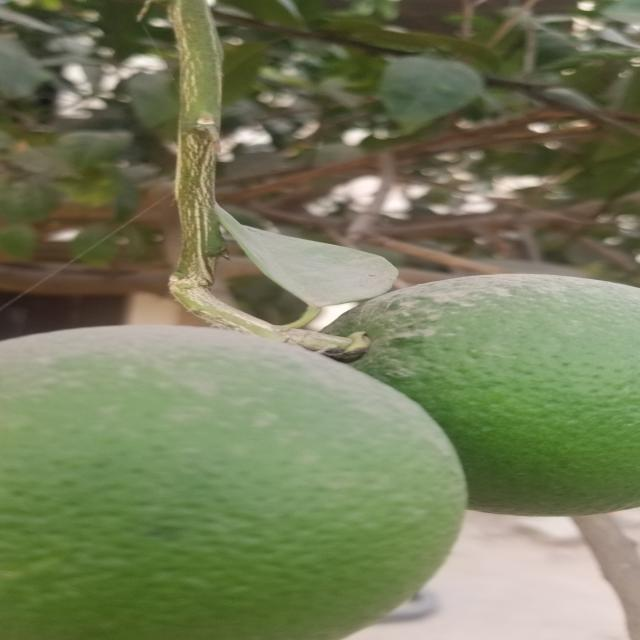Unripe: (0, 325, 467, 640), (333, 274, 640, 518)
